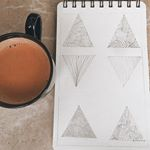cups: (1, 12, 57, 112)
